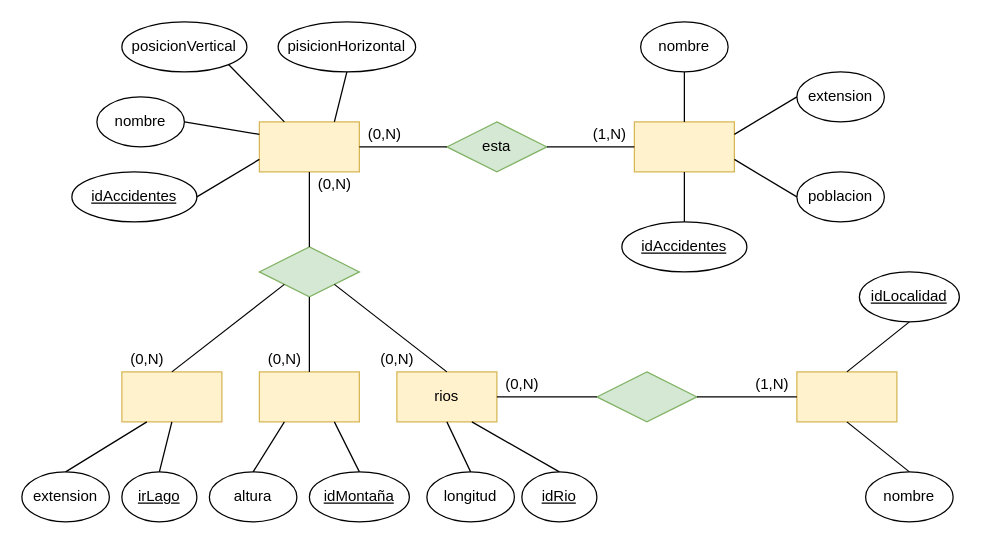
Image size: 981x544. Some labels were removed from this diagram. The shapes that lost their labels are listed below. From the top down, each one's box as (x1, y1, x2, y2) in pixels, then its label:
(258, 121, 359, 172): accidentes geograficos
(633, 121, 734, 172): pais
(258, 246, 359, 297): tienen
(121, 371, 222, 422): lagos
(258, 371, 359, 422): montañas
(596, 371, 697, 422): pasa
(796, 371, 897, 422): localidad
